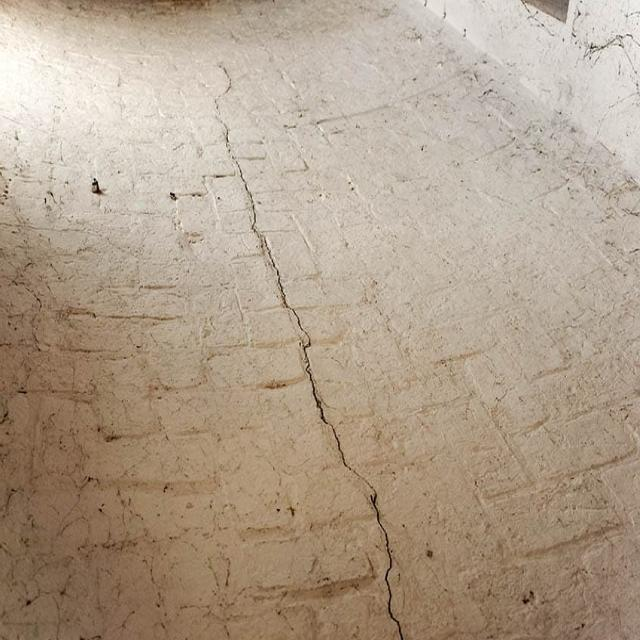leak: (212, 65, 405, 640)
